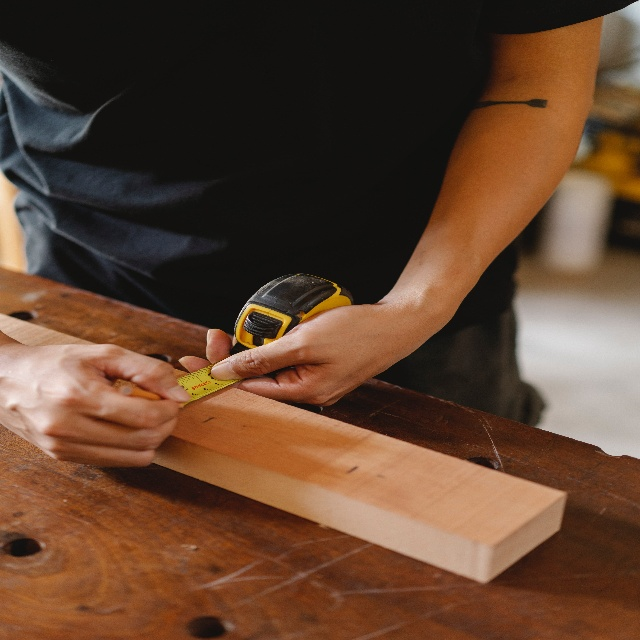Sin_guantes: (178, 301, 408, 409), (1, 342, 192, 470)
